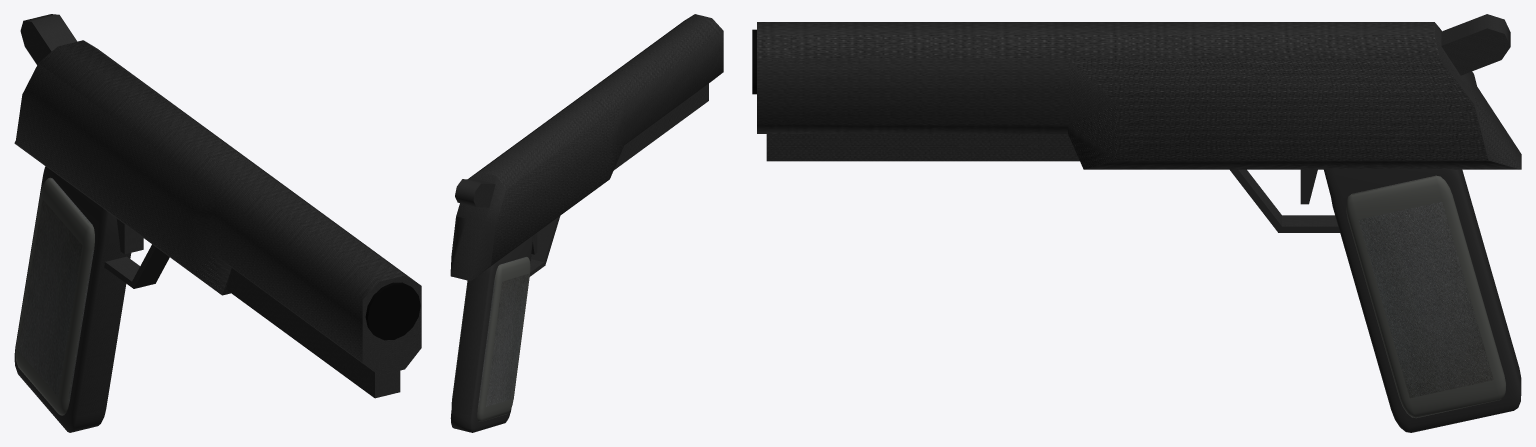
File: HandGun.fbx
3 renders of one model, left to right at view 1: azimuth 30°, elevation 25°; view 2: azimuth 150°, elevation 25°; view 3: azimuth 270°, elevation 25°, orthographic. The views are drawn at different scales.
Visible parts, largest first — view 1: mqo_mesh; view 2: mqo_mesh; view 3: mqo_mesh.
Boxes of the visible parts, left/top/right/bottom form: mqo_mesh: left=14, top=14, right=421, bottom=432; mqo_mesh: left=450, top=14, right=723, bottom=432; mqo_mesh: left=752, top=14, right=1521, bottom=432.
Size of the model in its own units: 23.31 by 145 by 249.
